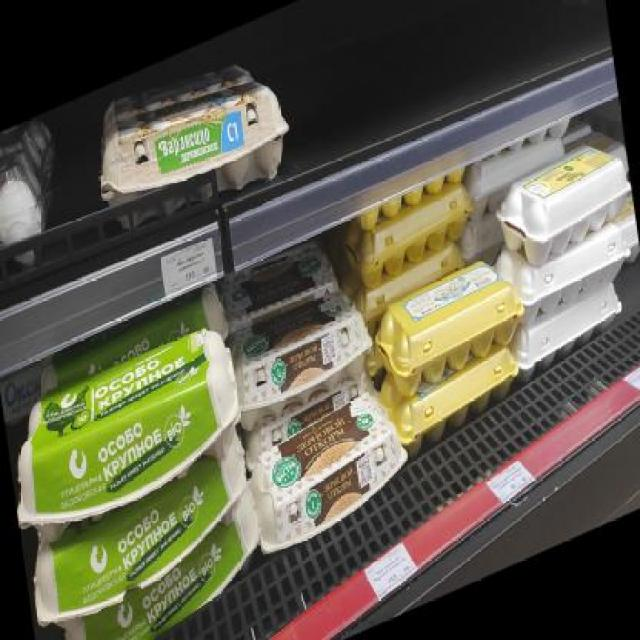Egg: (6, 317, 245, 551), (24, 452, 253, 638), (94, 59, 295, 256), (247, 385, 413, 549), (227, 277, 376, 429)
